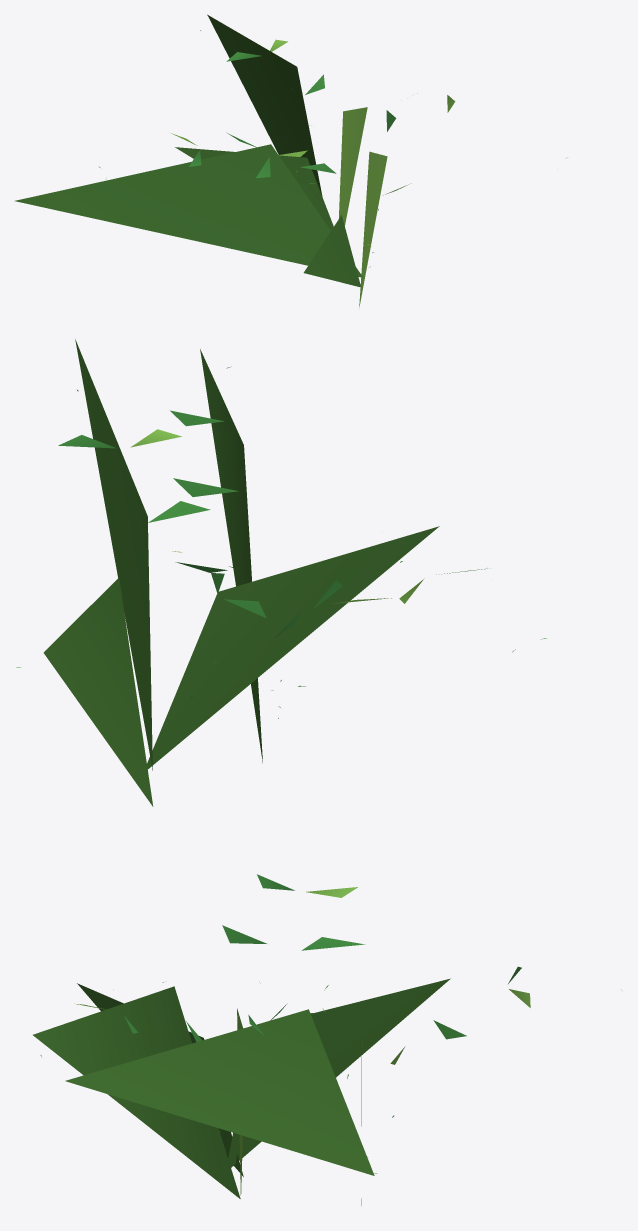
File: canopy_gc_fernlets_a_lod2.glb
3 renders of one model, top to bottom at view 1: azimuth 30°, elevation 25°; view 2: azimuth 150°, elevation 25°; view 3: azimuth 270°, elevation 25°, orthographic. The views are drawn at different scales.
Parts seen in each view (by area): view 1: canopy_gc_fernlets_a.001; view 2: canopy_gc_fernlets_a.001; view 3: canopy_gc_fernlets_a.001.
Part boxes in pixels (x1=…): canopy_gc_fernlets_a.001: x1=15, y1=14, x2=567, y2=307; canopy_gc_fernlets_a.001: x1=16, y1=339, x2=546, y2=806; canopy_gc_fernlets_a.001: x1=33, y1=874, x2=530, y2=1205.
Bounding box in the file's own units: 3.68 × 1.41 × 3.13.
